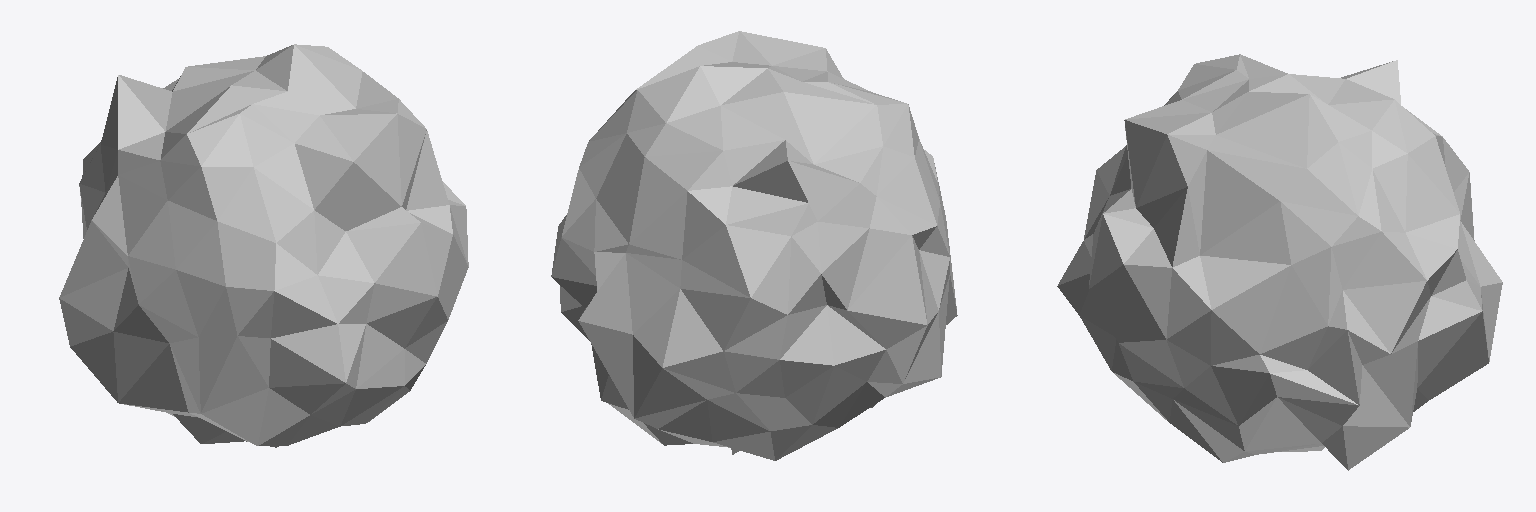
File: fire_000005.obj
The picture shows the model from 3 angles: view 1: azimuth 30°, elevation 25°; view 2: azimuth 150°, elevation 25°; view 3: azimuth 270°, elevation 25°; orthographic projection.
Visible parts, largest first — view 1: Icosphere; view 2: Icosphere; view 3: Icosphere.
Boxes of the visible parts, x1=… form: Icosphere: x1=59, y1=44, x2=468, y2=447; Icosphere: x1=551, y1=31, x2=957, y2=460; Icosphere: x1=1057, y1=54, x2=1502, y2=470.
Bounding box in the file's own units: 1.55 × 1.56 × 1.68.